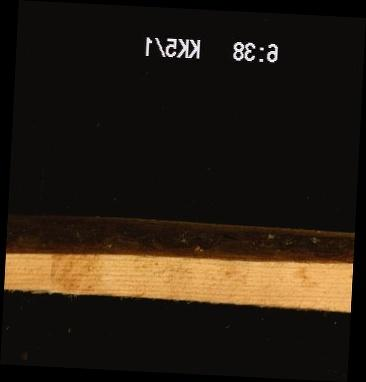wave: (6, 219, 353, 263)
